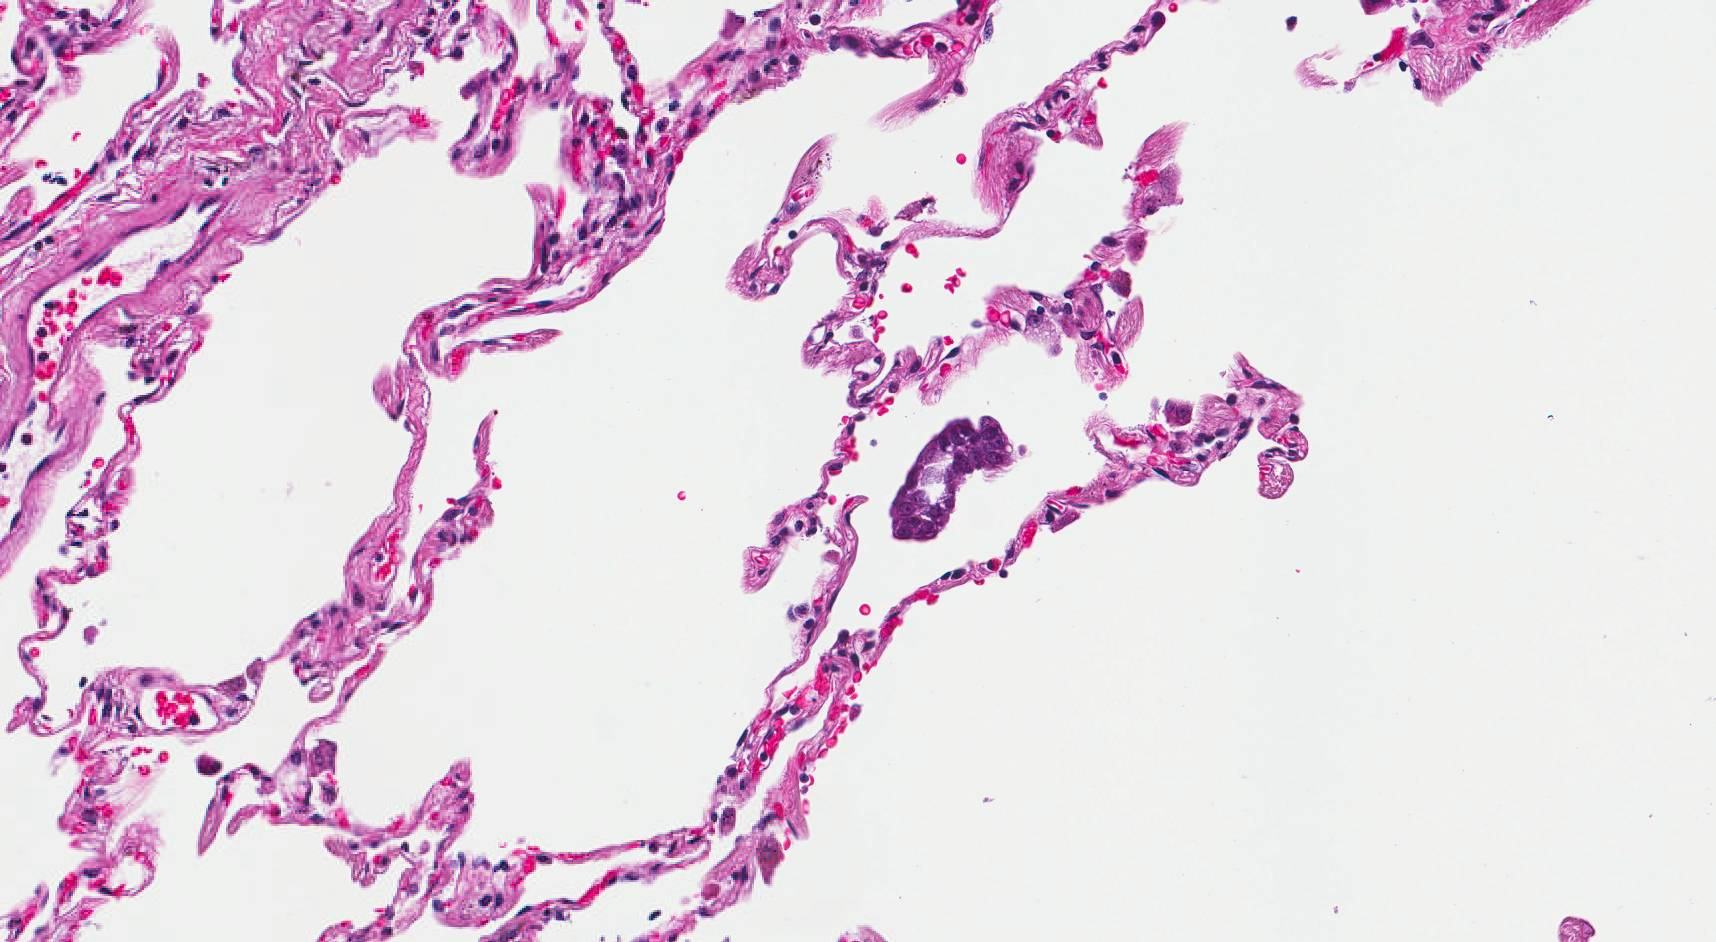stas: (886, 415, 1018, 544)
